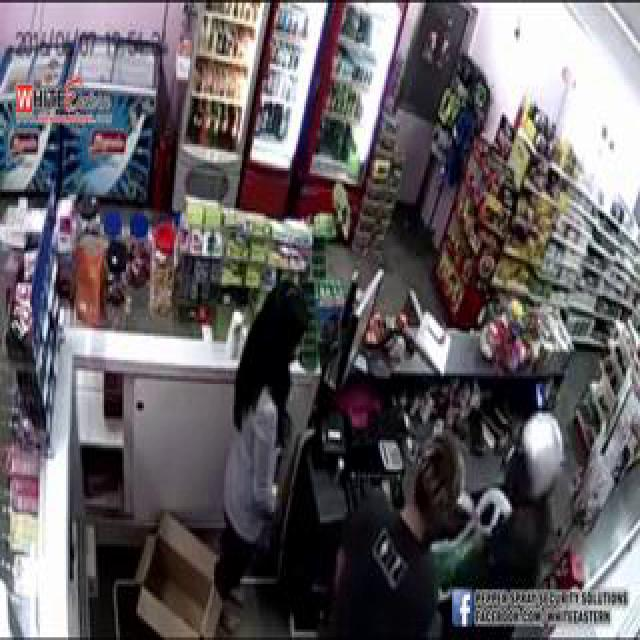robbery: (279, 396, 628, 640)
